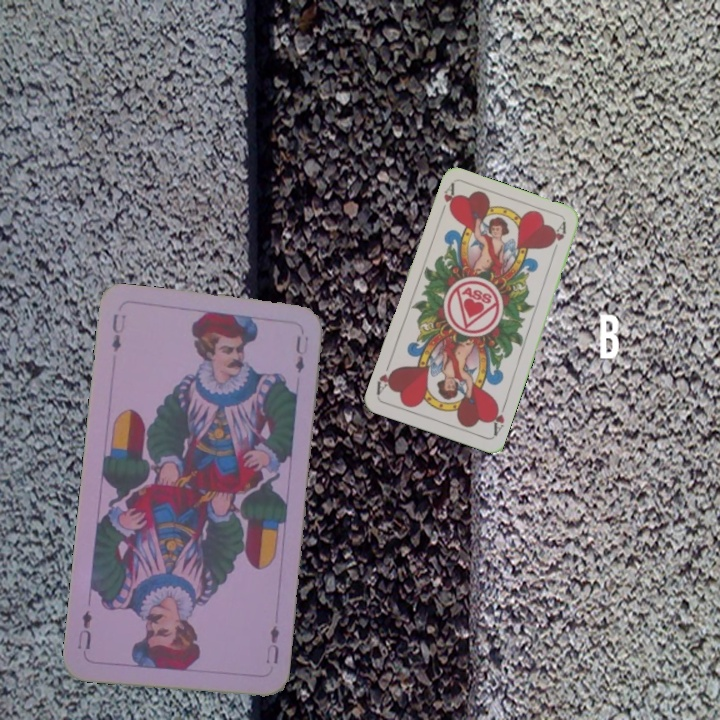EU: (261, 621, 282, 667), (108, 309, 128, 355)
HA: (436, 180, 458, 220), (487, 399, 509, 438)
